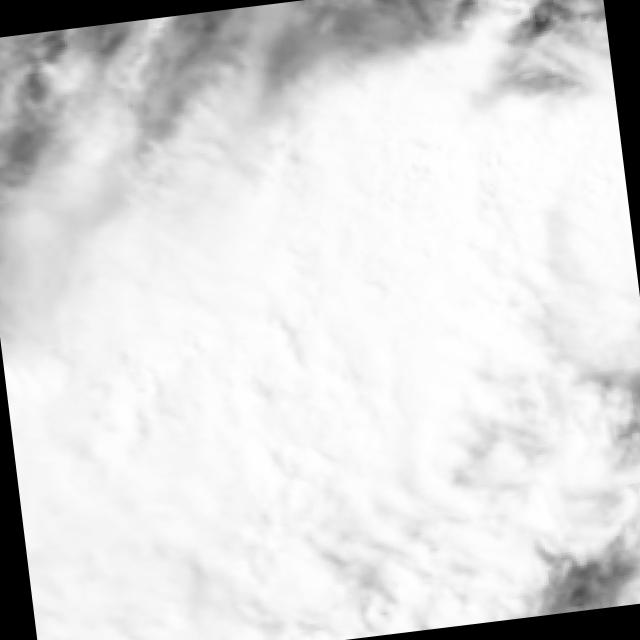CB: (8, 350, 361, 640), (282, 102, 640, 353), (134, 182, 440, 440), (328, 332, 486, 482)
